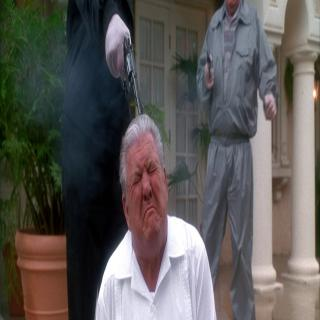gun: (104, 18, 150, 121)
